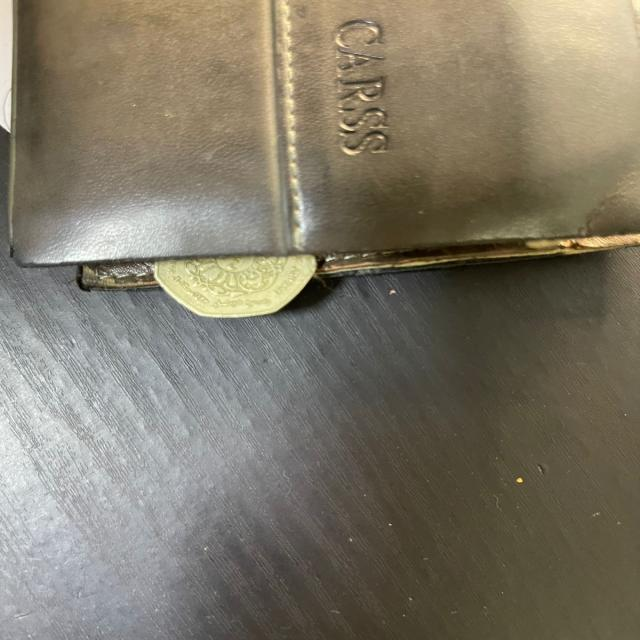25-coins: (155, 257, 319, 317)
